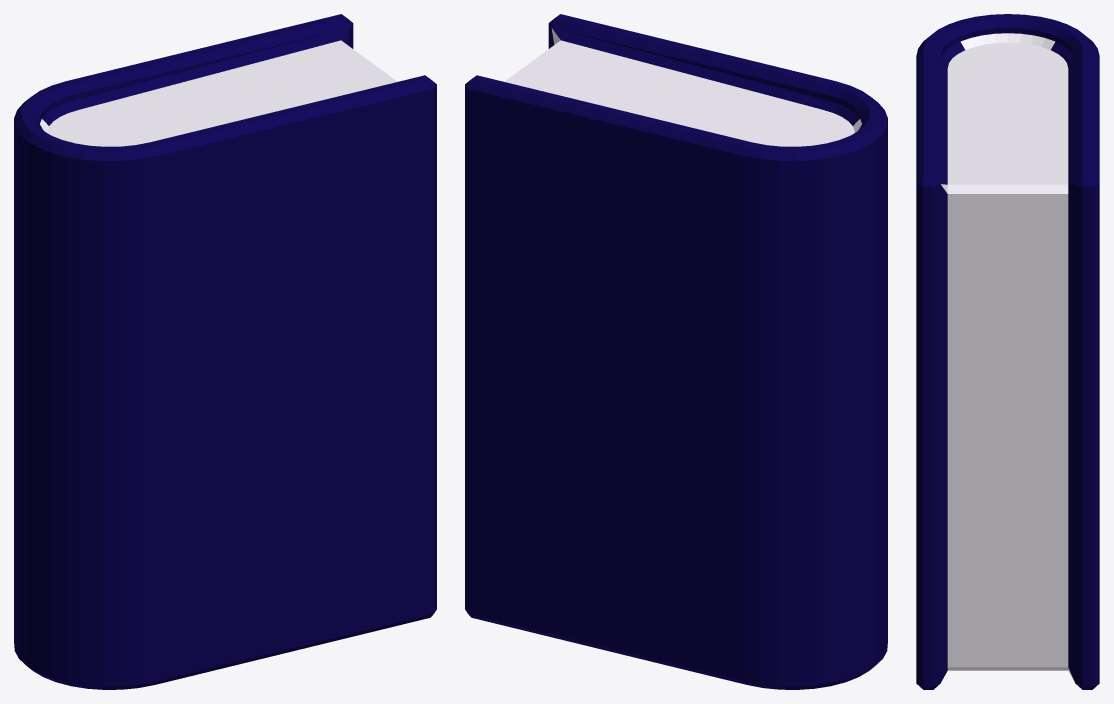
File: book.fbx
3 renders of one model, left to right at view 1: azimuth 30°, elevation 25°; view 2: azimuth 150°, elevation 25°; view 3: azimuth 270°, elevation 25°, orthographic. The views are drawn at different scales.
Parts seen in each view (by area): view 1: Book; view 2: Book; view 3: Book.
Boxes of the visible parts, x1,y1,x2,y2 form: Book: [14, 14, 436, 689]; Book: [465, 14, 887, 689]; Book: [916, 14, 1099, 689].
Size of the model in its own units: 0.7263 by 1.02 by 0.3315.
